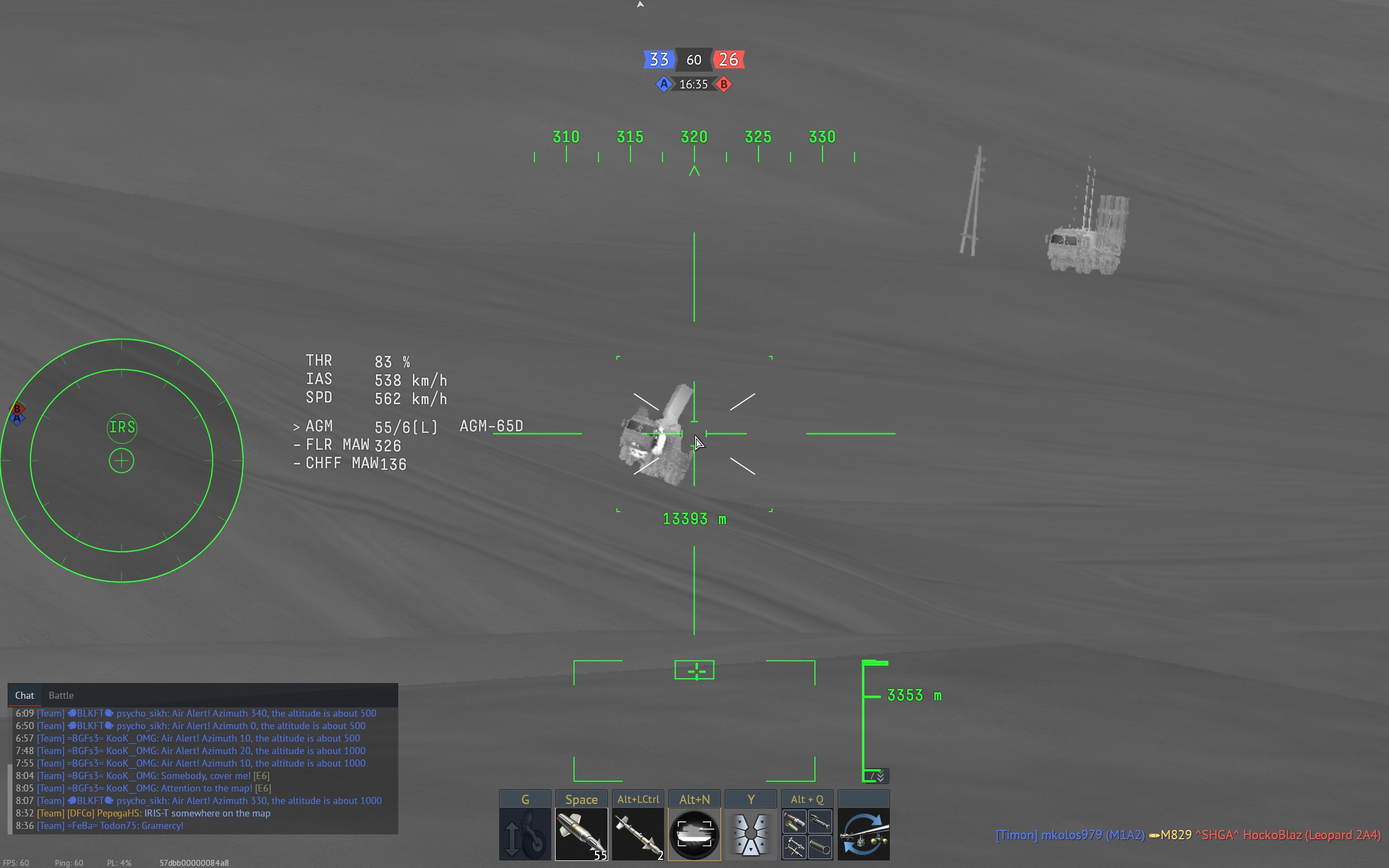spaa_TEL: (1045, 195, 1135, 278)
spaa_tads: (608, 384, 708, 486)
